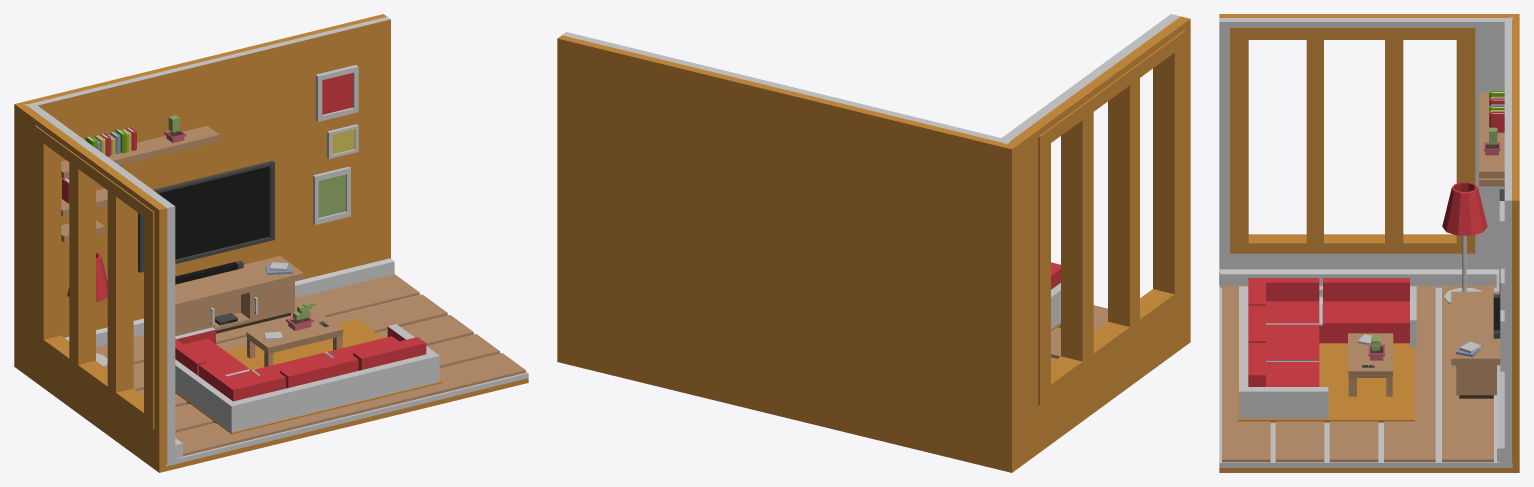
File: Living room orange.fbx
3 renders of one model, left to right at view 1: azimuth 30°, elevation 25°; view 2: azimuth 150°, elevation 25°; view 3: azimuth 270°, elevation 25°, orthographic. The views are drawn at different scales.
Visible parts, largest first — view 1: Room, Window, Sofa, TV1, Mesa, Alfombra, Mesa 2, Art 1, Art 2, Table 1, Art 3, Lampara (+2 smaller); view 2: Room, Window; view 3: Room, Window, Sofa, Alfombra, Mesa, Lampara, Mesa 2, Table 1, Art 1, Bonsai, Bonsai 2.
Part boxes in pixels (x1,y1,x2,y2): Room: [14, 14, 528, 472]; Window: [34, 125, 154, 429]; Sofa: [175, 324, 439, 432]; TV1: [138, 160, 274, 272]; Mesa: [175, 256, 303, 336]; Alfombra: [175, 319, 442, 434]; Mesa 2: [246, 313, 343, 366]; Art 1: [315, 65, 358, 121]; Art 2: [313, 166, 350, 224]; Table 1: [61, 125, 219, 178]; Art 3: [327, 124, 358, 158]; Lampara: [67, 252, 107, 366]; Room: [557, 14, 1190, 472]; Window: [1038, 30, 1185, 405]; Room: [1219, 14, 1519, 472]; Window: [1230, 27, 1475, 253]; Sofa: [1239, 278, 1416, 418]; Alfombra: [1237, 313, 1414, 422]; Mesa: [1451, 291, 1500, 398]; Lampara: [1442, 182, 1487, 303]; Mesa 2: [1348, 333, 1393, 396]; Table 1: [1479, 93, 1504, 178]; Art 1: [1499, 201, 1504, 268]; Bonsai: [1368, 334, 1384, 360]; Bonsai 2: [1484, 127, 1500, 155].
Bounding box in the file's own units: 310 × 210 × 210.
